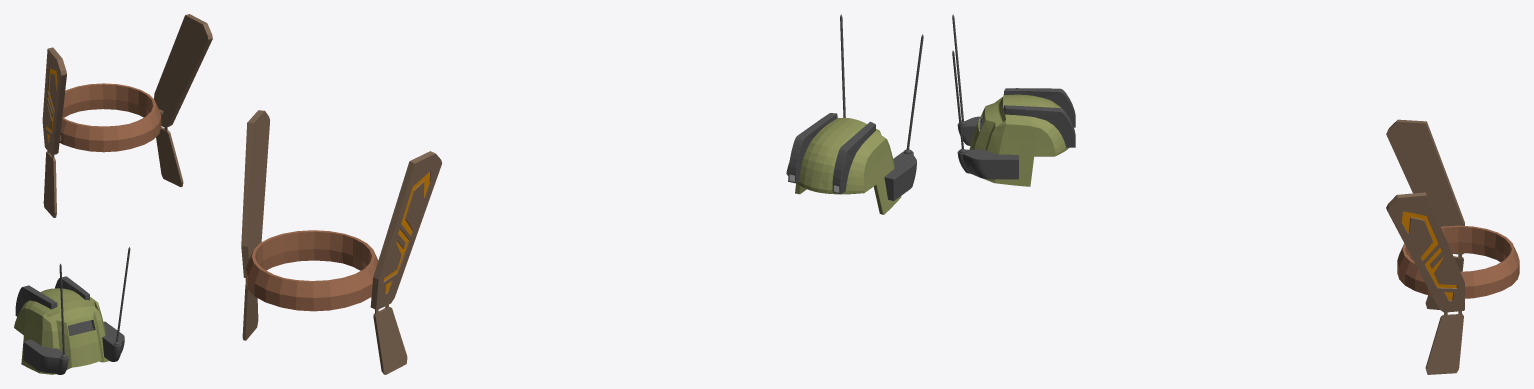
The model's file is Helmets.dae.
3 renders of one model, left to right at view 1: azimuth 30°, elevation 25°; view 2: azimuth 150°, elevation 25°; view 3: azimuth 270°, elevation 25°, orthographic. The views are drawn at different scales.
Visible parts, largest first — view 1: AcrityrdianHeadgear, PirizukaHelmet; view 2: AcrityrdianHeadgear, PirizukaHelmet; view 3: AcrityrdianHeadgear, PirizukaHelmet.
Boxes of the visible parts, left/top/right/bottom form: AcrityrdianHeadgear: left=42, top=14, right=212, bottom=217; PirizukaHelmet: left=14, top=247, right=130, bottom=374; AcrityrdianHeadgear: left=241, top=110, right=442, bottom=374; PirizukaHelmet: left=786, top=14, right=923, bottom=214; AcrityrdianHeadgear: left=1386, top=119, right=1519, bottom=374; PirizukaHelmet: left=952, top=14, right=1075, bottom=186.
Bounding box in the file's own units: 3.15 × 4 × 1.43.
